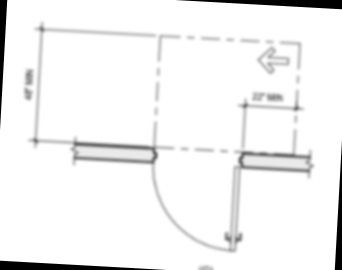door: (147, 145, 246, 255)
